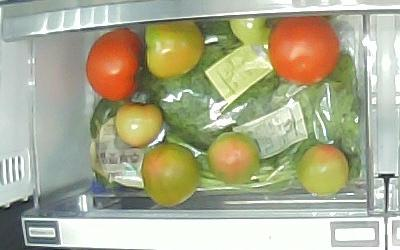tomato: (268, 16, 340, 85), (86, 29, 145, 100), (142, 144, 199, 206), (144, 20, 204, 77), (207, 132, 260, 185), (298, 144, 347, 195), (116, 104, 163, 147), (229, 17, 280, 45)
